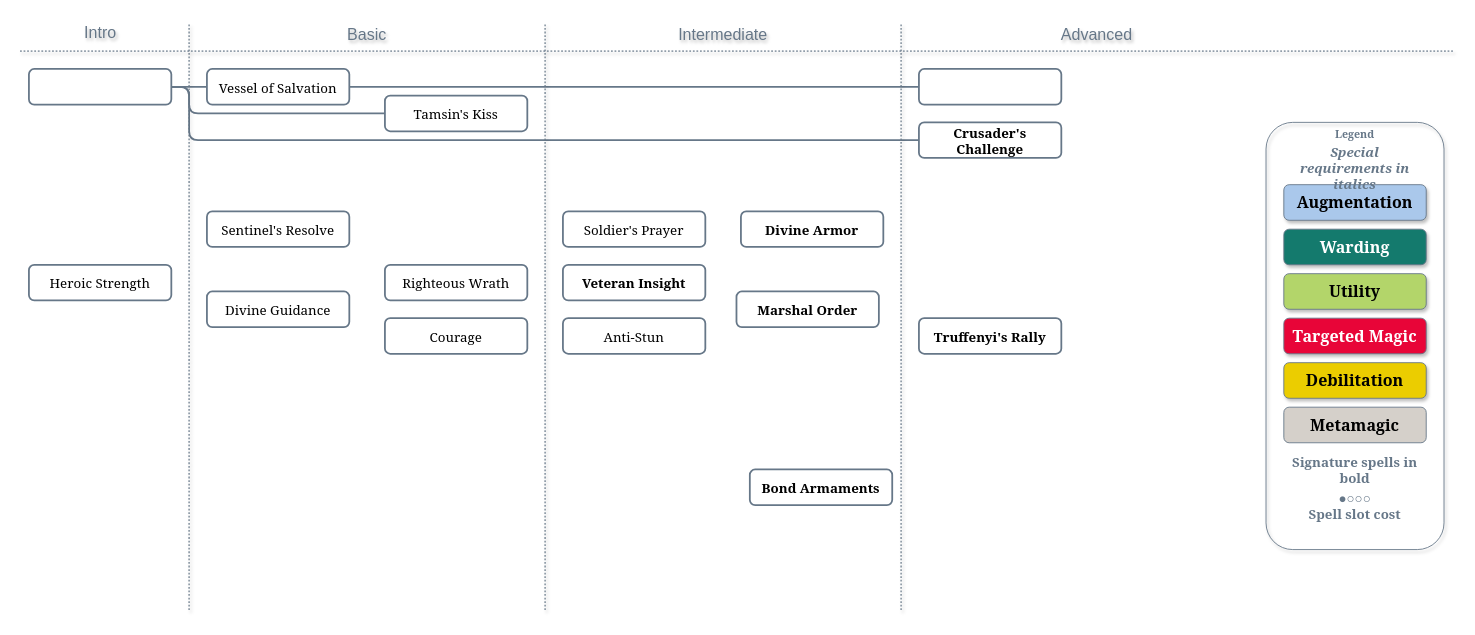
Image size: 1475x635. Some labels were removed from this diagram. The centre of each missing label's shape, as x and y in pixels:
Alamhif's Gift: point (990, 86)
Aspirant's Aegis: point (100, 86)
